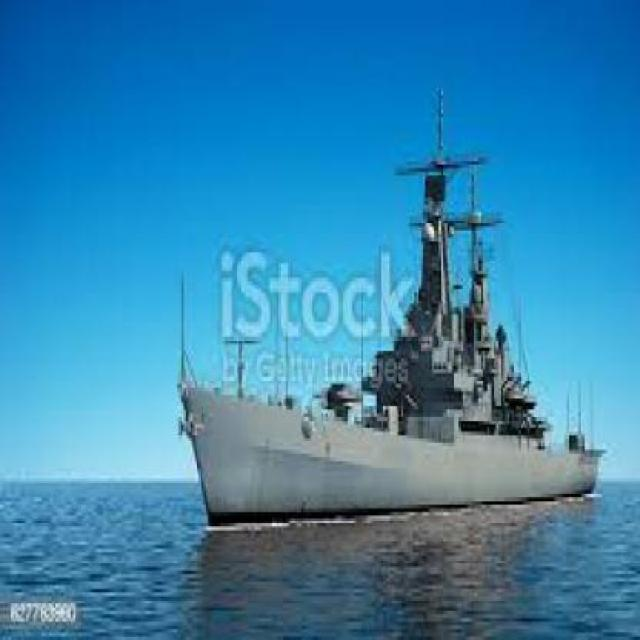warship2: (178, 77, 610, 557)
